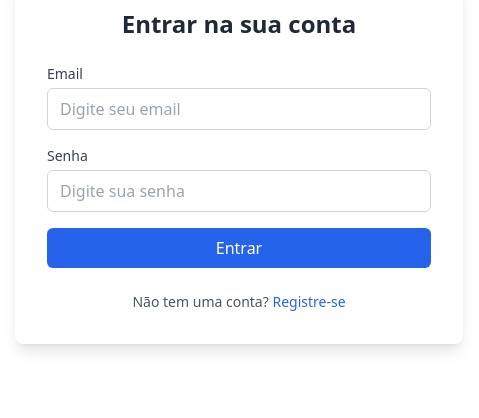
Test: LoginForm › should clear field errors when user starts typing
// Trigger validation error
Click the button "Entrar".
click(239, 248)  # box [47,228,431,268]
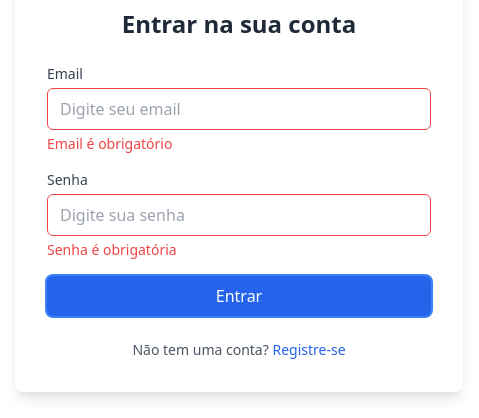
Expected: the text "Email é obrigatório" is shown, [47,134,172,153]
// Start typing to clear error
Type "t" into the field labelled "Email".
click(239, 109); type("t")  # box [47,88,431,130]
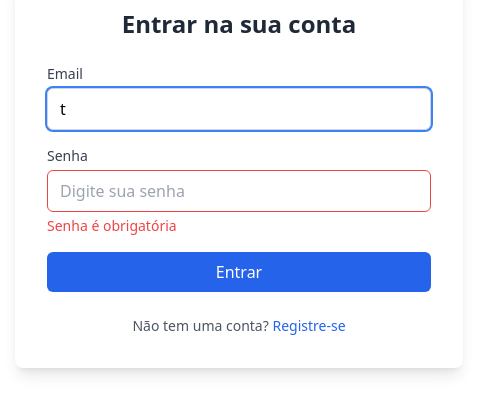
Expected: the text "Email é obrigatório" is gone
